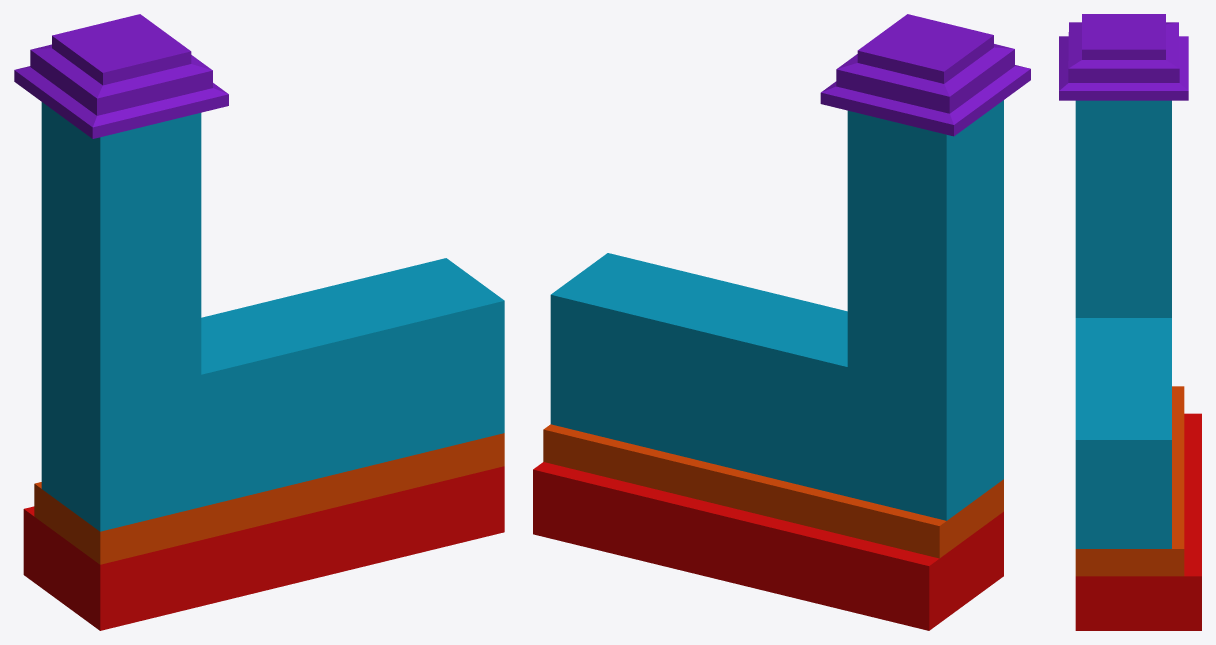
Rendered from Brick_Column_low.fbx.
The picture shows the model from 3 angles, left to right: view 1: azimuth 30°, elevation 25°; view 2: azimuth 150°, elevation 25°; view 3: azimuth 270°, elevation 25°; orthographic projection. The views are drawn at different scales.
Visible parts, largest first — view 1: Brick_Column_low; view 2: Brick_Column_low; view 3: Brick_Column_low.
Boxes of the visible parts, x1,y1,x2,y2 form: Brick_Column_low: (14, 14, 504, 630); Brick_Column_low: (533, 14, 1030, 630); Brick_Column_low: (1059, 14, 1201, 630).
Size of the model in its own units: 63.86 by 22.67 by 80.07.
